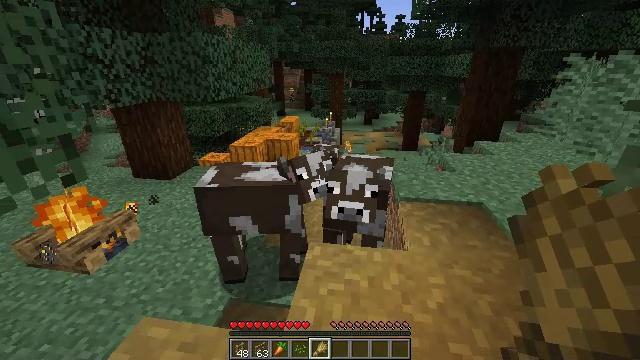cow: (198, 149, 325, 287), (324, 155, 394, 249)
